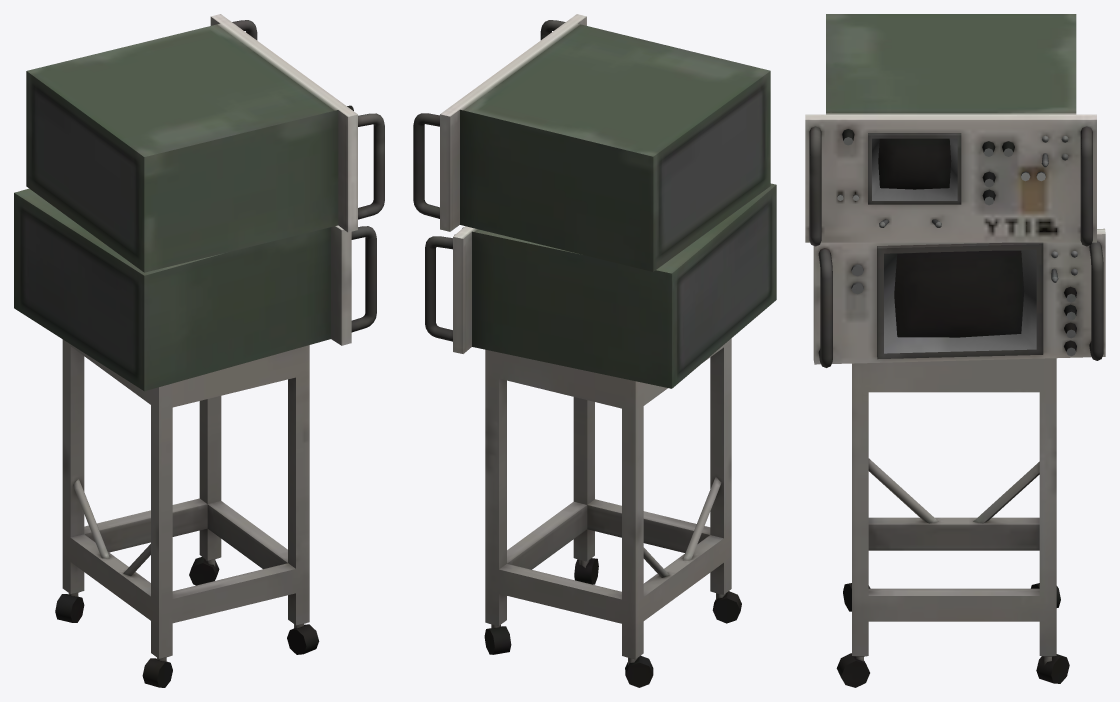
3 renders of one model, left to right at view 1: azimuth 30°, elevation 25°; view 2: azimuth 150°, elevation 25°; view 3: azimuth 270°, elevation 25°, orthographic. The views are drawn at different scales.
Parts seen in each view (by area): view 1: body0_model0_lod0_mesh0; view 2: body0_model0_lod0_mesh0; view 3: body0_model0_lod0_mesh0.
Boxes of the visible parts, x1,y1,x2,y2 form: body0_model0_lod0_mesh0: [14, 14, 384, 687]; body0_model0_lod0_mesh0: [413, 14, 776, 687]; body0_model0_lod0_mesh0: [805, 14, 1105, 687].
Size of the model in its own units: 46.75 by 97.41 by 45.68.
Materials: 1 (1 with a texture image).
